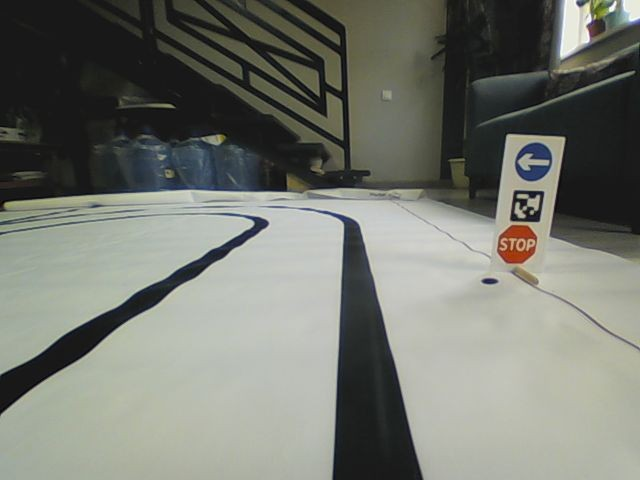Stop: (495, 225, 537, 265)
